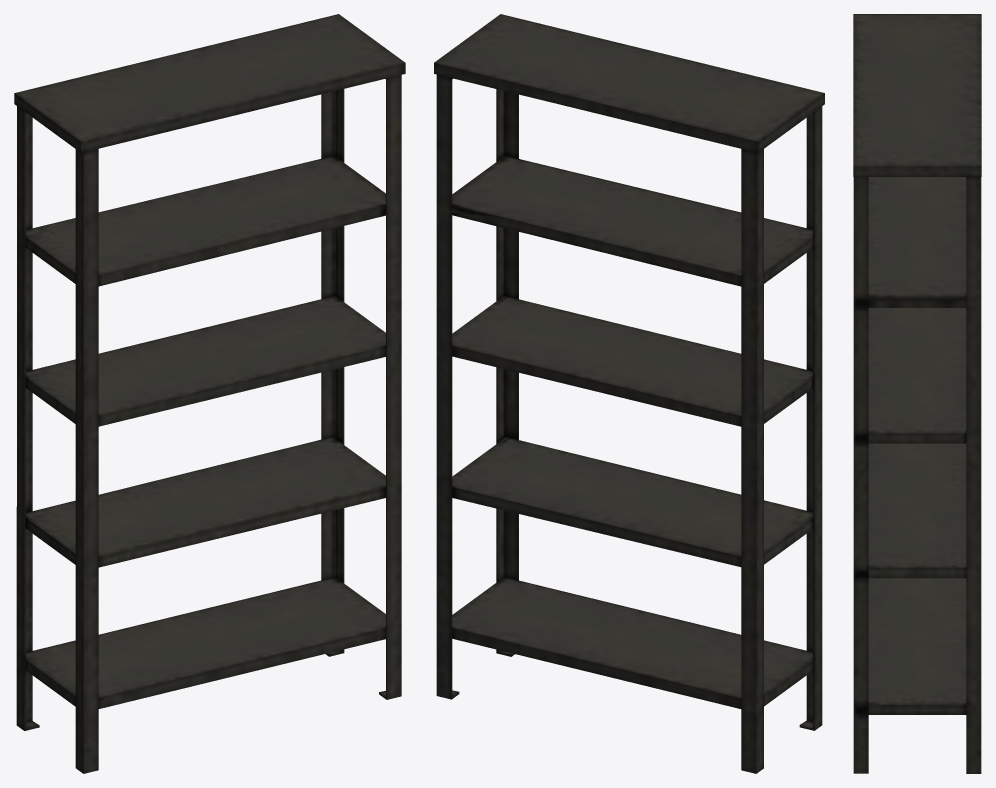
The model's file is metal-shelf.gltf.
3 views of the same model, side by side, from view 1: azimuth 30°, elevation 25°; view 2: azimuth 150°, elevation 25°; view 3: azimuth 270°, elevation 25° (orthographic). The views are drawn at different scales.
Visible parts, largest first — view 1: Workshop shelf; view 2: Workshop shelf; view 3: Workshop shelf.
Part boxes in pixels (x1=…): Workshop shelf: x1=14, y1=14, x2=405, y2=773; Workshop shelf: x1=434, y1=14, x2=824, y2=773; Workshop shelf: x1=853, y1=14, x2=981, y2=773.
Size of the model in its own units: 1.18 by 2.2 by 0.4194.
1 material, 1 textured.
